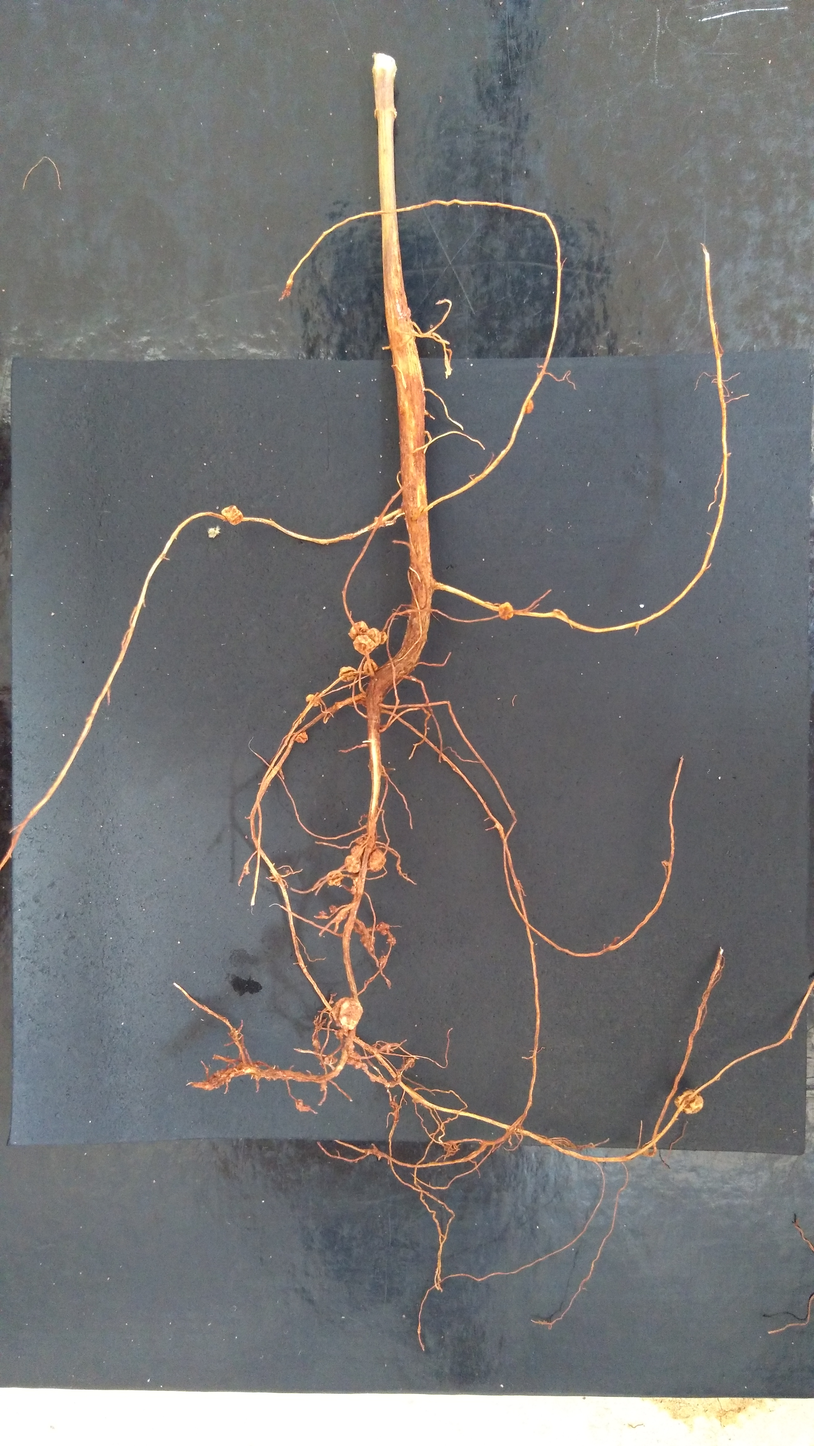nodule: (330, 995, 365, 1032), (672, 1087, 706, 1117), (351, 633, 377, 657), (220, 503, 245, 527), (346, 619, 370, 640), (368, 848, 388, 873), (342, 853, 362, 874), (497, 601, 515, 623), (337, 665, 358, 683), (366, 627, 382, 647), (326, 870, 344, 887), (362, 658, 379, 674), (293, 730, 309, 745), (305, 693, 320, 708), (524, 398, 535, 416), (349, 844, 364, 857), (376, 631, 388, 646)
